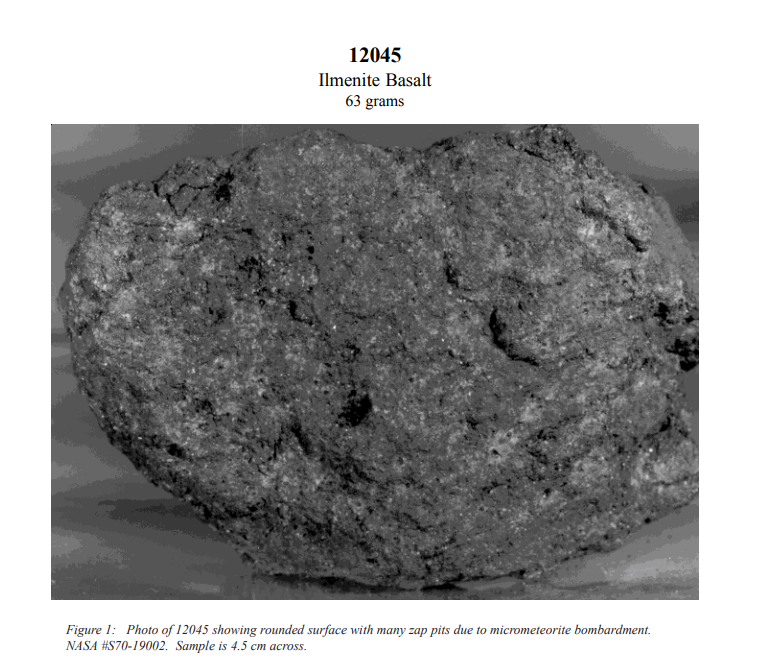Basalt: (52, 123, 694, 590)
